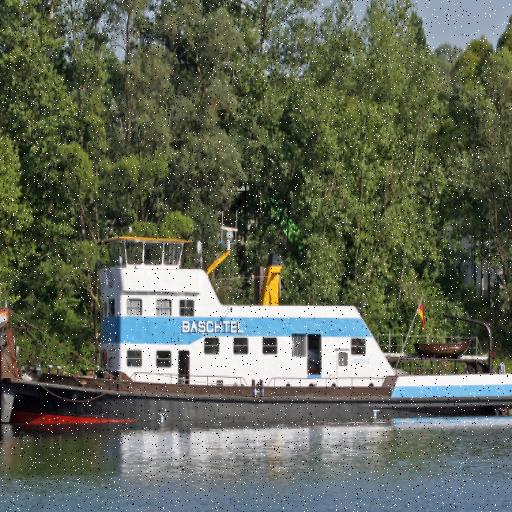tugboat: (5, 219, 512, 444)
